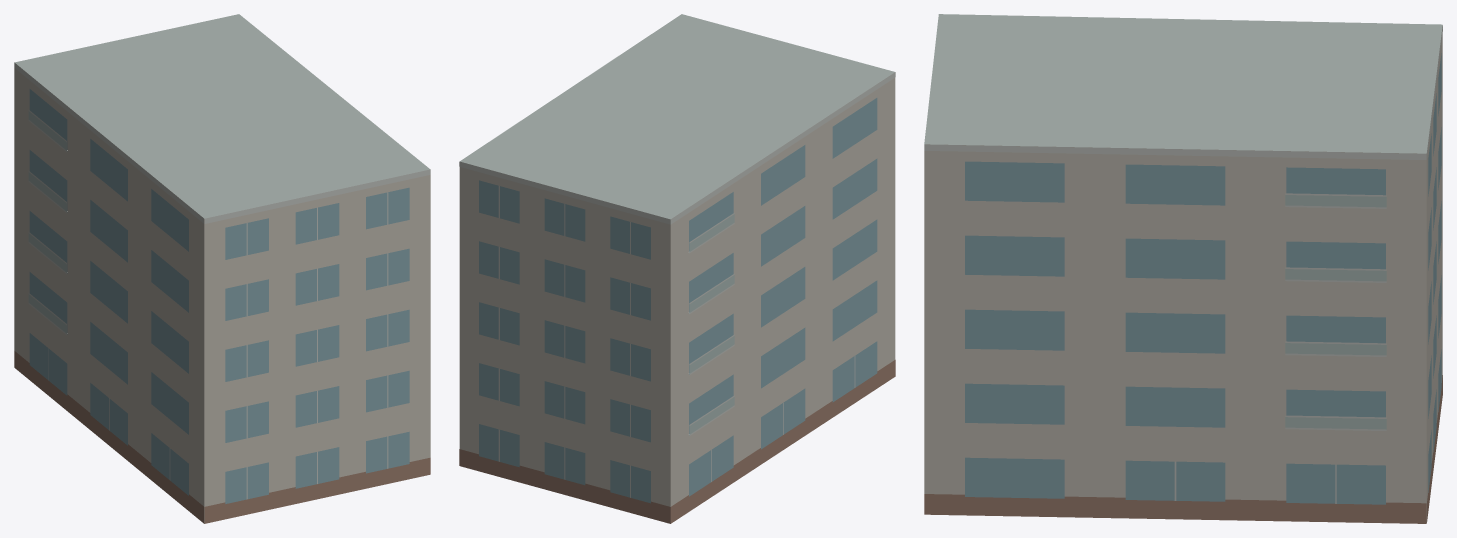
File: survey-upis-32665282.glb
3 views of the same model, side by side, from view 1: azimuth 30°, elevation 25°; view 2: azimuth 150°, elevation 25°; view 3: azimuth 270°, elevation 25° (orthographic). The views are drawn at different scales.
Parts seen in each view (by area): view 1: survey-upis-32665282.tmp; view 2: survey-upis-32665282.tmp; view 3: survey-upis-32665282.tmp.
Boxes of the visible parts, <box> form: survey-upis-32665282.tmp: <box>14,14,430,523</box>; survey-upis-32665282.tmp: <box>459,14,895,523</box>; survey-upis-32665282.tmp: <box>924,14,1442,523</box>.
Size of the model in its own units: 11.22 by 13.86 by 17.6.
